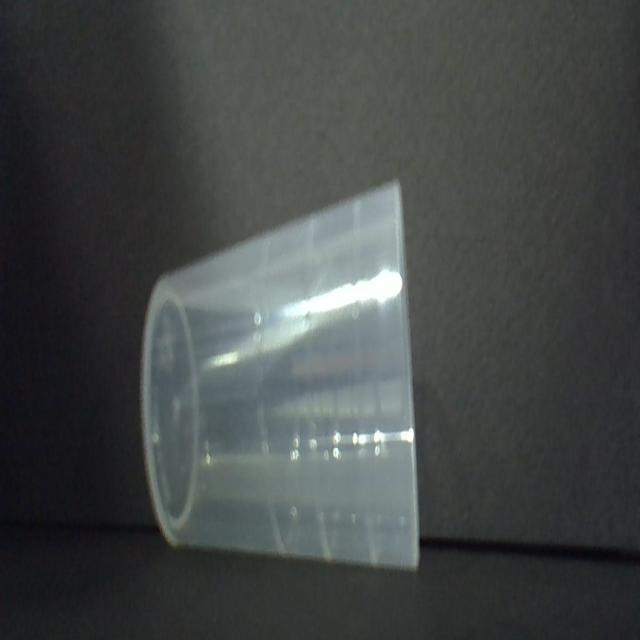cup: (138, 168, 430, 579)
